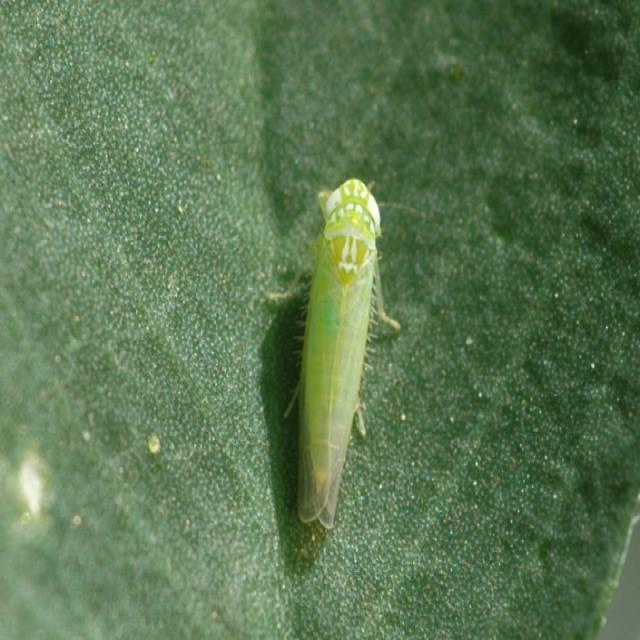Yechan: (284, 154, 396, 541)
